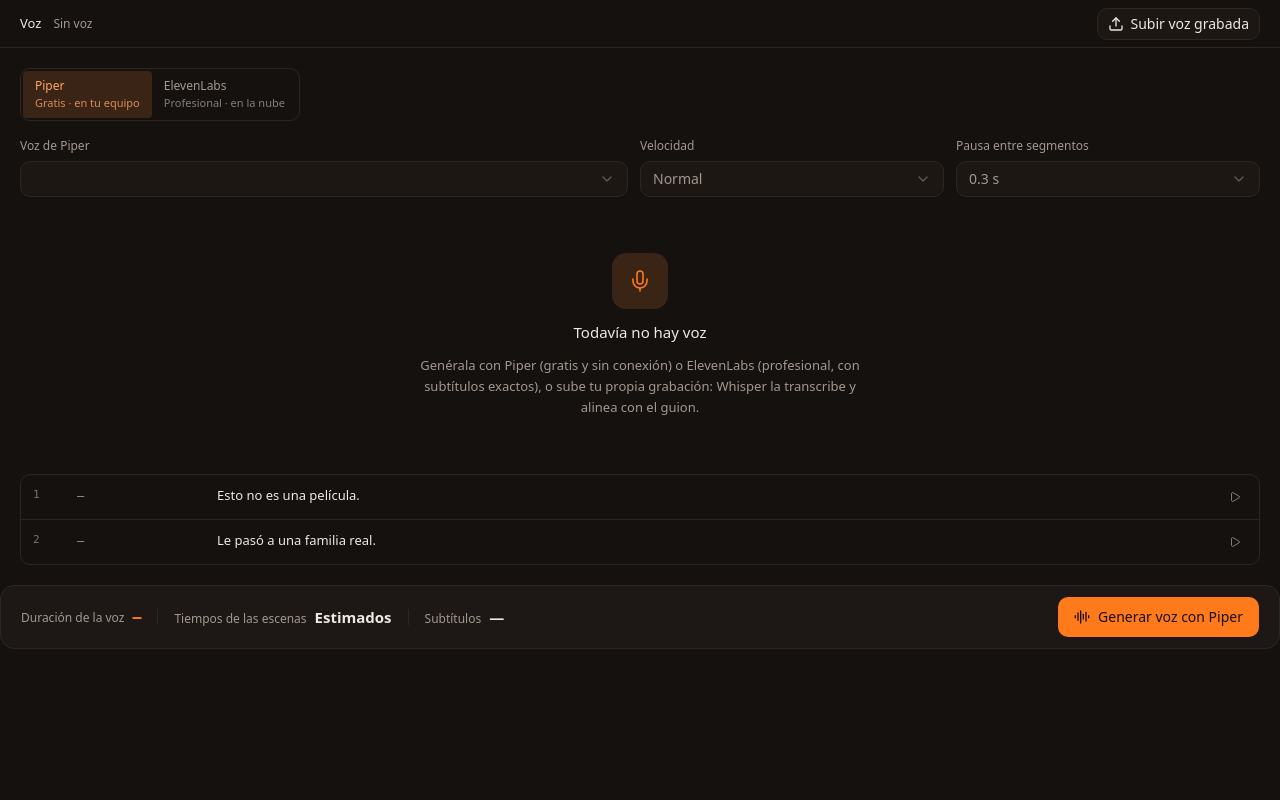
Test: voz con ElevenLabs › sin clave ofrece ir a Ajustes y no deja generar
The image size is (1280, 800).
Click the radio button labelled "ElevenLabs Profesional · en la nube" at (224, 94), box x1=152 y1=71 x2=297 y2=118
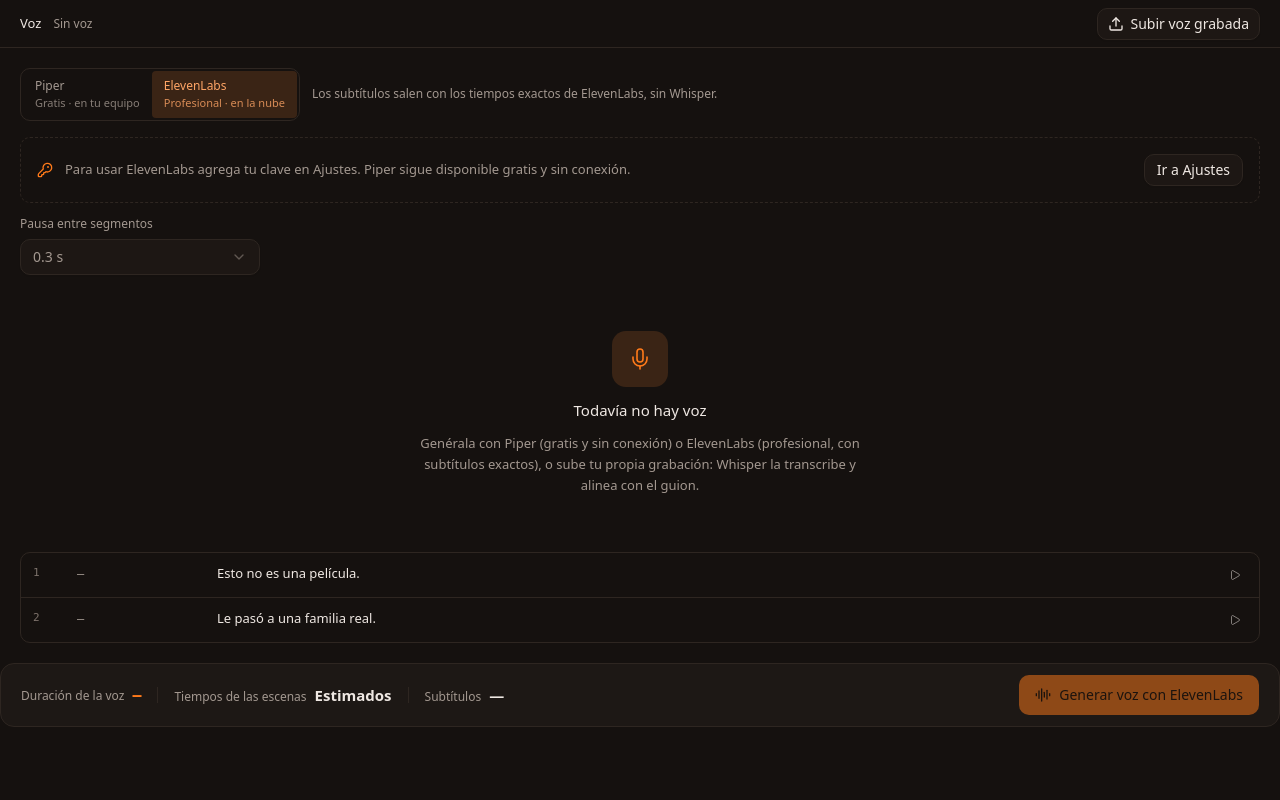
Expected: the text "agrega tu clave en Ajustes" is shown, x1=65 y1=160 x2=630 y2=178
Expected: the button "Generar voz con ElevenLabs" is disabled, x1=1019 y1=675 x2=1259 y2=715
